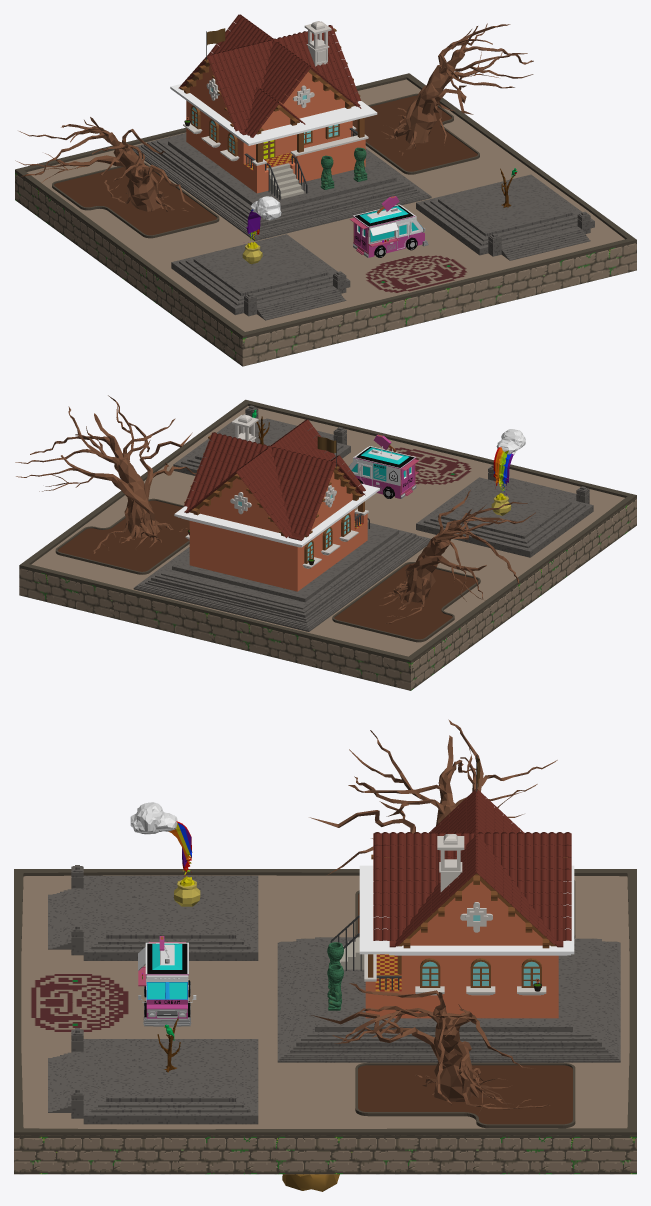
The picture shows the model from 3 angles, top to bottom: view 1: azimuth 30°, elevation 25°; view 2: azimuth 150°, elevation 25°; view 3: azimuth 270°, elevation 25°; orthographic projection. The views are drawn at different scales.
Visible parts, largest first — view 1: Cube.011, Cube.1141, VEHICLES_ICE_CREAM_TRUCK, OBJRANDOM_RAINBOW; view 2: Cube.011, Cube.1141, VEHICLES_ICE_CREAM_TRUCK, OBJRANDOM_RAINBOW; view 3: Cube.011, Cube.1141, VEHICLES_ICE_CREAM_TRUCK, OBJRANDOM_RAINBOW, UNDERGROUND_T_REX_BONES.
Part boxes in pixels (left/top/right/bottom): Cube.011: left=15, top=23, right=636, bottom=366; Cube.1141: left=170, top=14, right=377, bottom=200; VEHICLES_ICE_CREAM_TRUCK: left=350, top=196, right=428, bottom=257; OBJRANDOM_RAINBOW: left=242, top=196, right=281, bottom=264; Cube.011: left=15, top=395, right=636, bottom=690; Cube.1141: left=174, top=414, right=379, bottom=591; VEHICLES_ICE_CREAM_TRUCK: left=348, top=434, right=419, bottom=498; OBJRANDOM_RAINBOW: left=491, top=429, right=525, bottom=515; Cube.011: left=14, top=719, right=636, bottom=1174; Cube.1141: left=330, top=755, right=574, bottom=1018; VEHICLES_ICE_CREAM_TRUCK: left=138, top=936, right=196, bottom=1026; OBJRANDOM_RAINBOW: left=130, top=802, right=200, bottom=906; UNDERGROUND_T_REX_BONES: left=282, top=1174, right=339, bottom=1191.
Size of the model in its own units: 5099 by 1927 by 4000.
54 materials, 5 textured.
